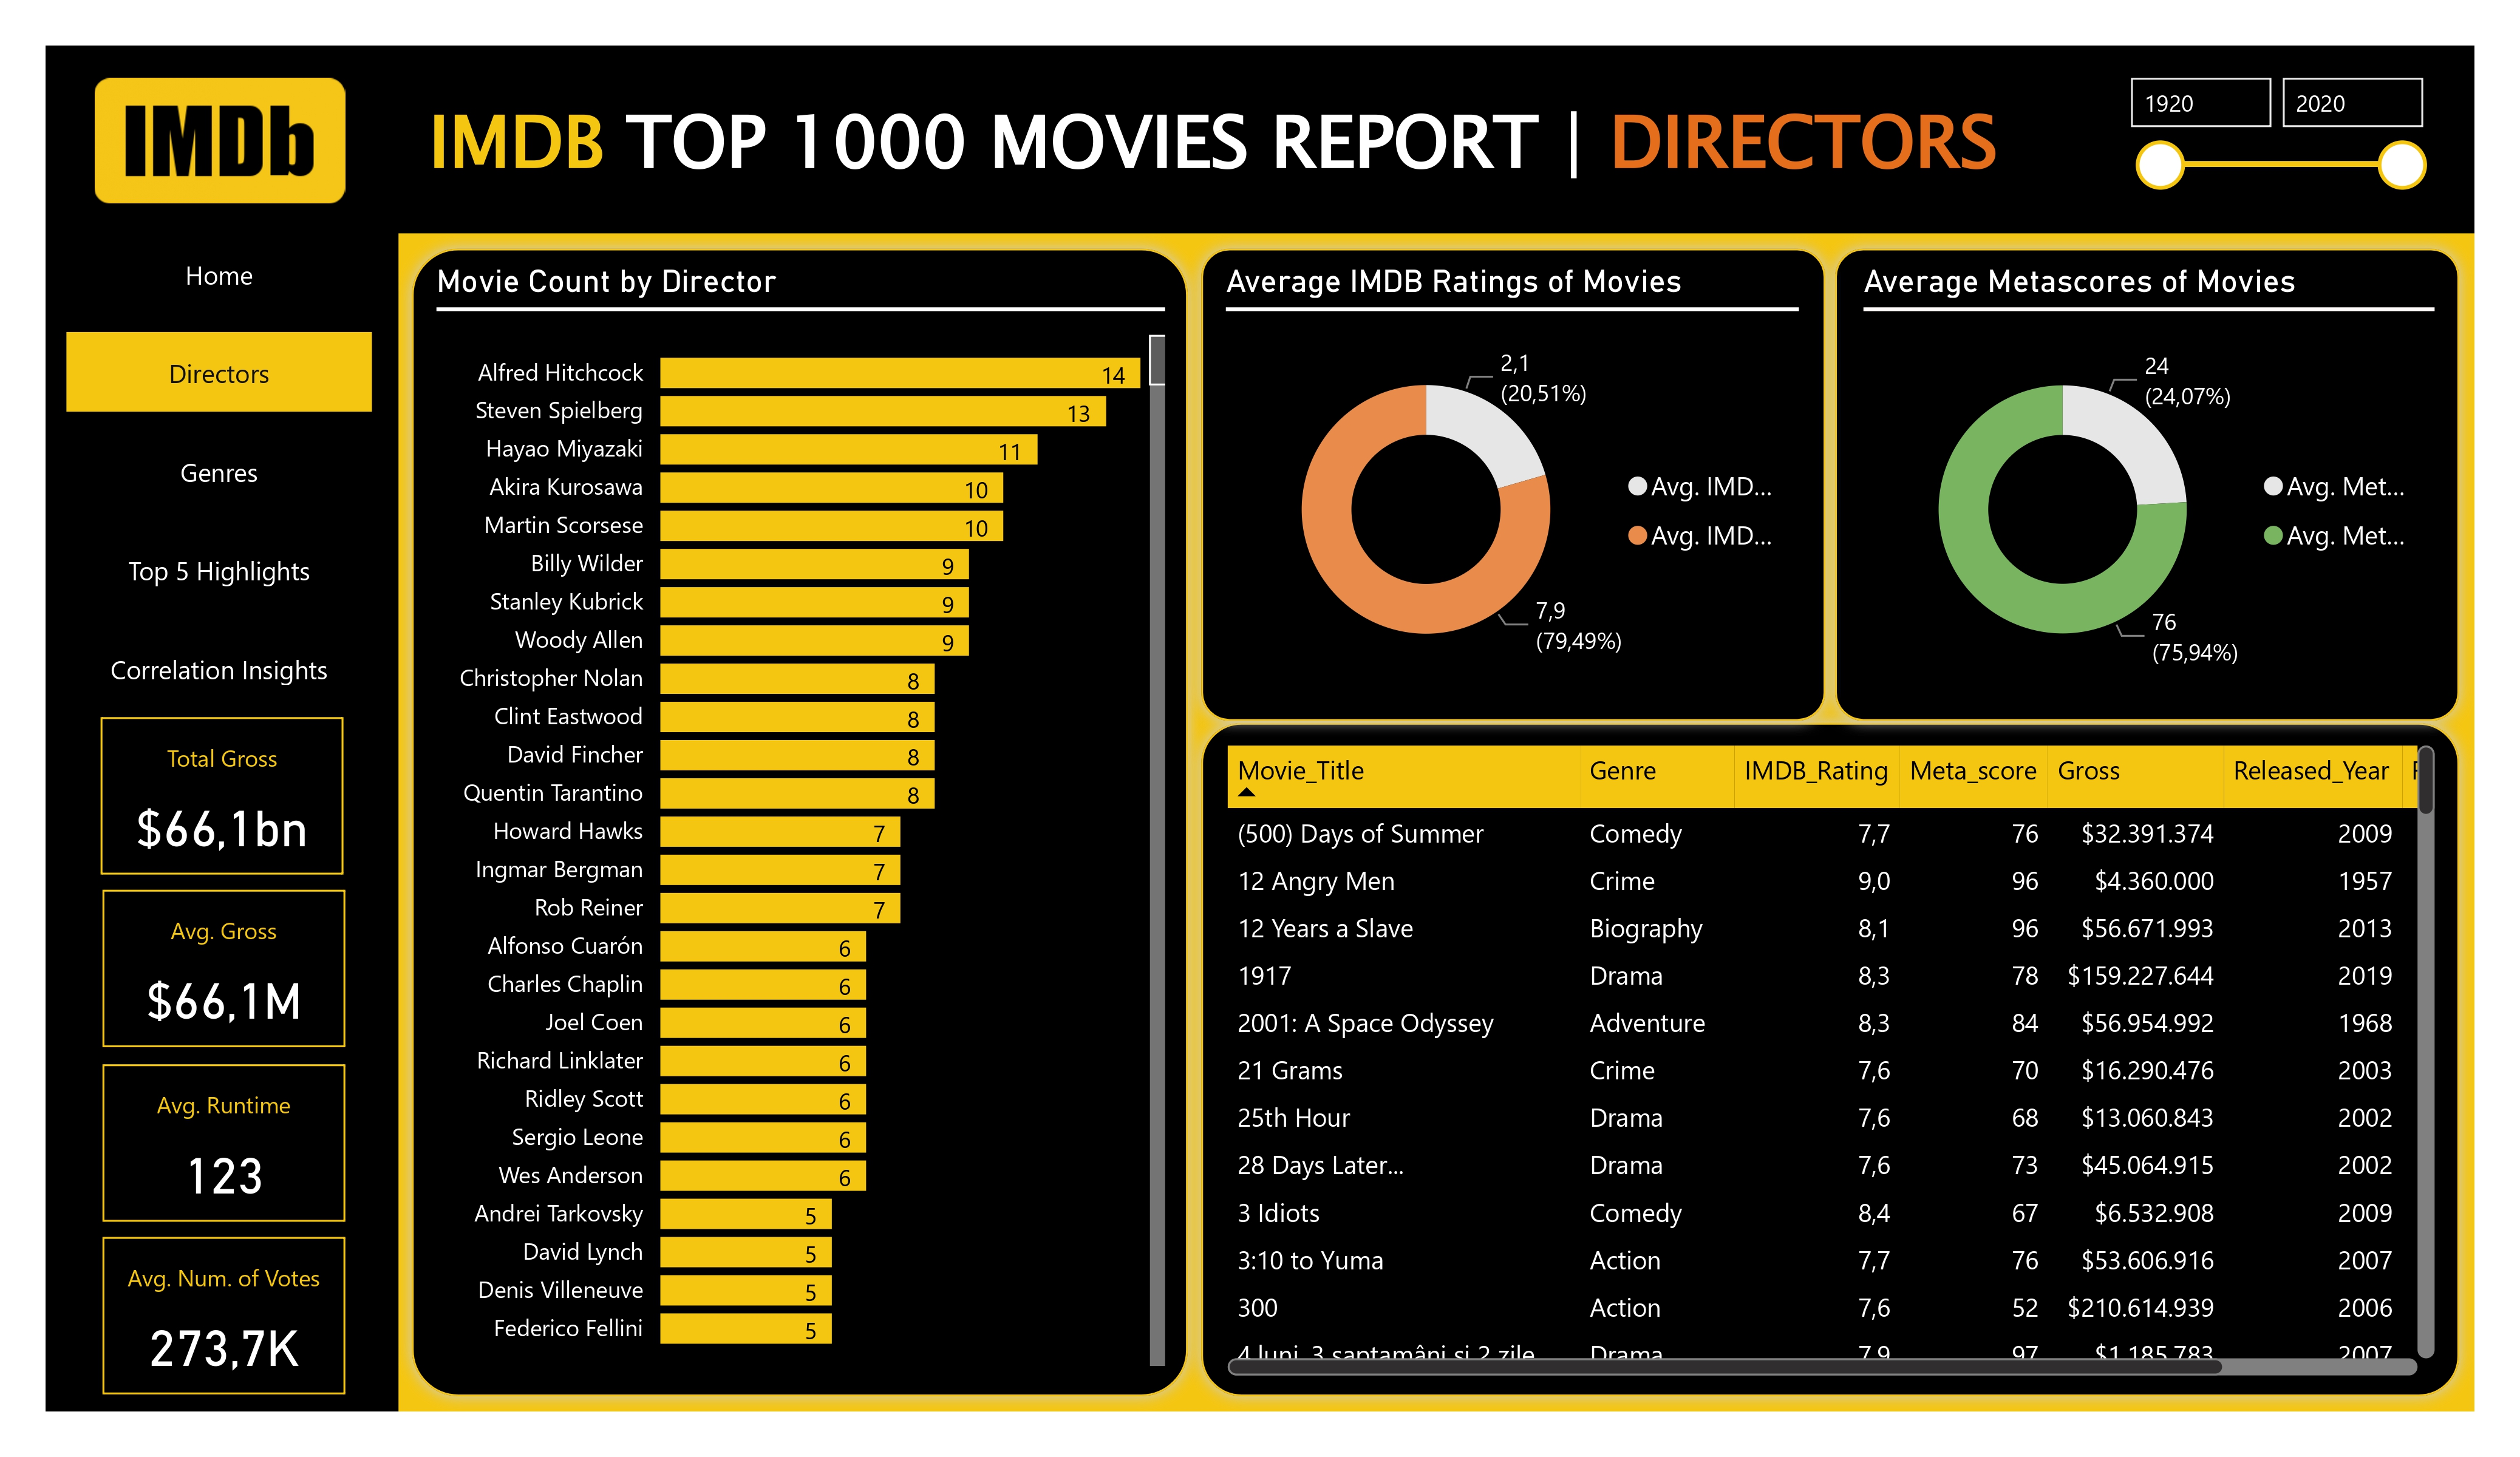

The dashboard page shown, as its layout file describes it:
{"tool":"powerbi","page":{"name":"Directors","canvas":[1280,720],"ordinal":1},"visuals":[{"type":"shape","box":[185.3,99.3,424.7,620.7],"z":0},{"type":"shape","box":[601.2,349.4,678.3,370.6],"z":1000},{"type":"shape","box":[935.5,99.3,344.9,265.1],"z":2000},{"type":"shape","box":[601.2,99.3,345,265.1],"z":3000},{"type":"shape","box":[185.3,0,1095.1,99.3],"z":4000},{"type":"shape","box":[0,0,186.4,720],"z":5000},{"type":"donutChart","title":"Average Metascores of Movies","fields":{"Y":["_Measures.Avg. Metascore Remaining","_Measures.Avg. Metascore"]},"box":[953.2,114.4,310.3,235],"z":6000},{"type":"barChart","fields":{"Category":["IMBD_Top_1000_Movies.Director"],"Y":["_Measures.Movie Count"]},"box":[201.3,114.4,393.7,587],"z":7000},{"type":"textbox","box":[196.8,0.9,1083.5,98.4],"z":8000},{"type":"tableEx","fields":{"Values":["IMBD_Top_1000_Movies.Movie_Title","Movie_Genre.Genre","IMBD_Top_1000_Movies.IMDB_Rating","IMBD_Top_1000_Movies.Meta_score","IMBD_Top_1000_Movies.Gross","IMBD_Top_1000_Movies.Released_Year","IMBD_Top_1000_Movies.Runtime","IMBD_Top_1000_Movies.Certificate"]},"box":[617.1,364.4,646.4,341.4],"z":9000},{"type":"donutChart","title":"Average IMDB Ratings of Movies","fields":{"Y":["_Measures.Avg. IMDB Rating Remaining","_Measures.Avg. IMDB Rating"]},"box":[617.1,114.4,312.1,235],"z":10000},{"type":"image","box":[21,12,142,76],"z":11000},{"type":"pageNavigator","box":[11,99,161,250],"z":12000},{"type":"cardVisual","fields":{"Data":["_Measures.Avg. Number of Votes"]},"box":[25,623,138,93],"z":13000},{"type":"cardVisual","fields":{"Data":["_Measures.Avg. Runtime"]},"box":[25,531.7,138,93],"z":14000},{"type":"cardVisual","fields":{"Data":["_Measures.Total Gross"]},"box":[24,349,138,93],"z":15000},{"type":"cardVisual","fields":{"Data":["_Measures.Avg. Gross"]},"box":[25,440.3,138,93],"z":16000},{"type":"slicer","fields":{"Values":["IMBD_Top_1000_Movies.Released_Year"]},"box":[1086,7,177,87],"z":17000}]}

Visuals, with their boxes on the page's 1280x720 design canvas (x1, y1, x2, y2). These are canvas units, not pixel positions in the 2520x1457 screenshot, which may show the page scaled, cropped or inside an application window:
shape: left=185, top=99, right=610, bottom=720
shape: left=601, top=349, right=1280, bottom=720
shape: left=936, top=99, right=1280, bottom=364
shape: left=601, top=99, right=946, bottom=364
shape: left=185, top=0, right=1280, bottom=99
shape: left=0, top=0, right=186, bottom=720
"Average Metascores of Movies" donutChart: left=953, top=114, right=1264, bottom=349
barChart - IMBD_Top_1000_Movies.Director x _Measures.Movie Count: left=201, top=114, right=595, bottom=701
textbox: left=197, top=1, right=1280, bottom=99
tableEx - IMBD_Top_1000_Movies.Movie_Title x Movie_Genre.Genre: left=617, top=364, right=1264, bottom=706
"Average IMDB Ratings of Movies" donutChart: left=617, top=114, right=929, bottom=349
image: left=21, top=12, right=163, bottom=88
pageNavigator: left=11, top=99, right=172, bottom=349
cardVisual - _Measures.Avg. Number of Votes: left=25, top=623, right=163, bottom=716
cardVisual - _Measures.Avg. Runtime: left=25, top=532, right=163, bottom=625
cardVisual - _Measures.Total Gross: left=24, top=349, right=162, bottom=442
cardVisual - _Measures.Avg. Gross: left=25, top=440, right=163, bottom=533
slicer - IMBD_Top_1000_Movies.Released_Year: left=1086, top=7, right=1263, bottom=94
